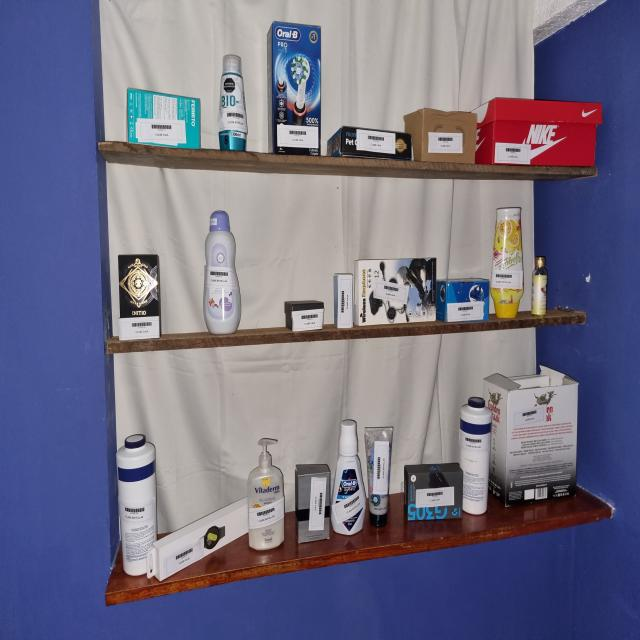botella: (116, 434, 157, 578), (204, 211, 241, 334), (331, 419, 366, 535), (248, 438, 284, 550), (459, 397, 492, 514), (490, 207, 524, 318), (364, 427, 393, 527), (218, 55, 247, 151), (530, 256, 549, 316)
caja: (484, 366, 578, 505), (472, 97, 602, 166), (146, 497, 248, 581), (268, 22, 321, 156), (354, 258, 436, 326), (127, 89, 200, 149), (404, 108, 477, 164), (118, 255, 161, 340), (404, 463, 463, 520), (327, 126, 414, 161), (295, 464, 331, 543), (436, 278, 490, 322), (284, 300, 324, 331), (333, 273, 353, 327)
